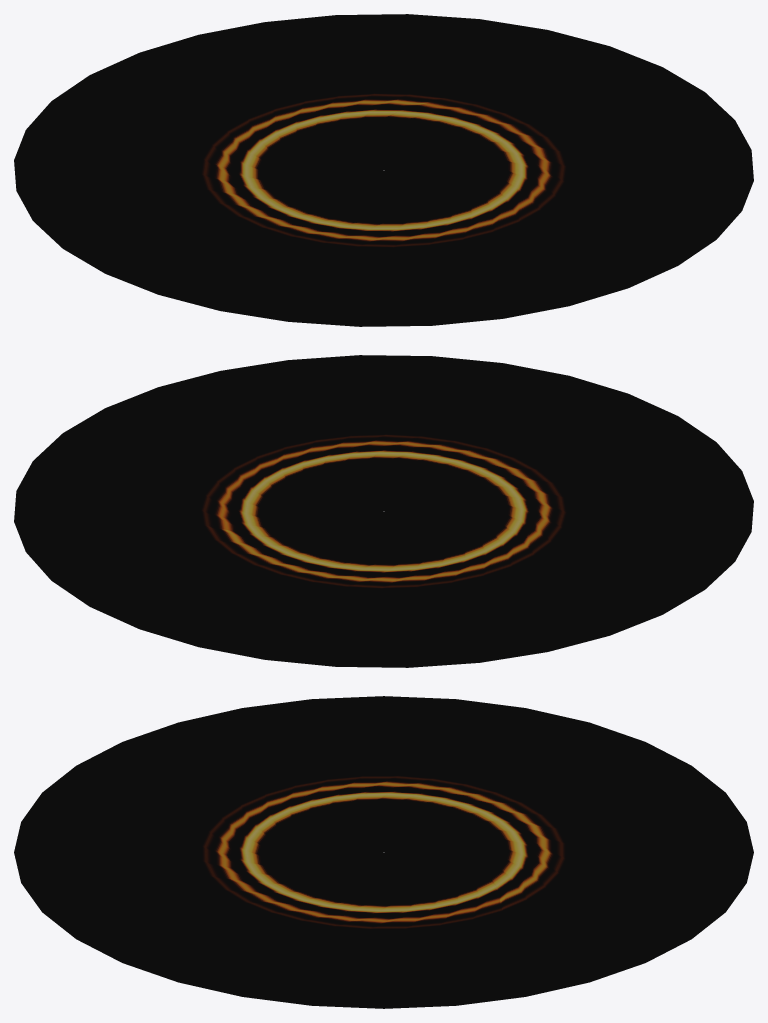
The model's file is Circle_Rings.fbx.
The picture shows the model from 3 angles, top to bottom: view 1: azimuth 30°, elevation 25°; view 2: azimuth 150°, elevation 25°; view 3: azimuth 270°, elevation 25°; orthographic projection.
Visible parts, largest first — view 1: Circle_Rings; view 2: Circle_Rings; view 3: Circle_Rings.
Part boxes in pixels (x1,y1,x2,y2): Circle_Rings: (14,14,753,326); Circle_Rings: (14,355,753,667); Circle_Rings: (14,696,753,1008).
Size of the model in its own units: 728 by 0 by 728.
